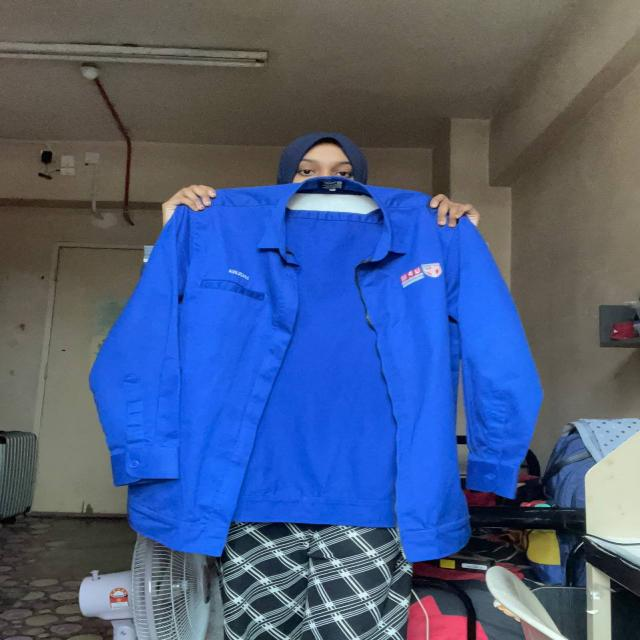person_without_labcoat: (90, 134, 541, 640)
